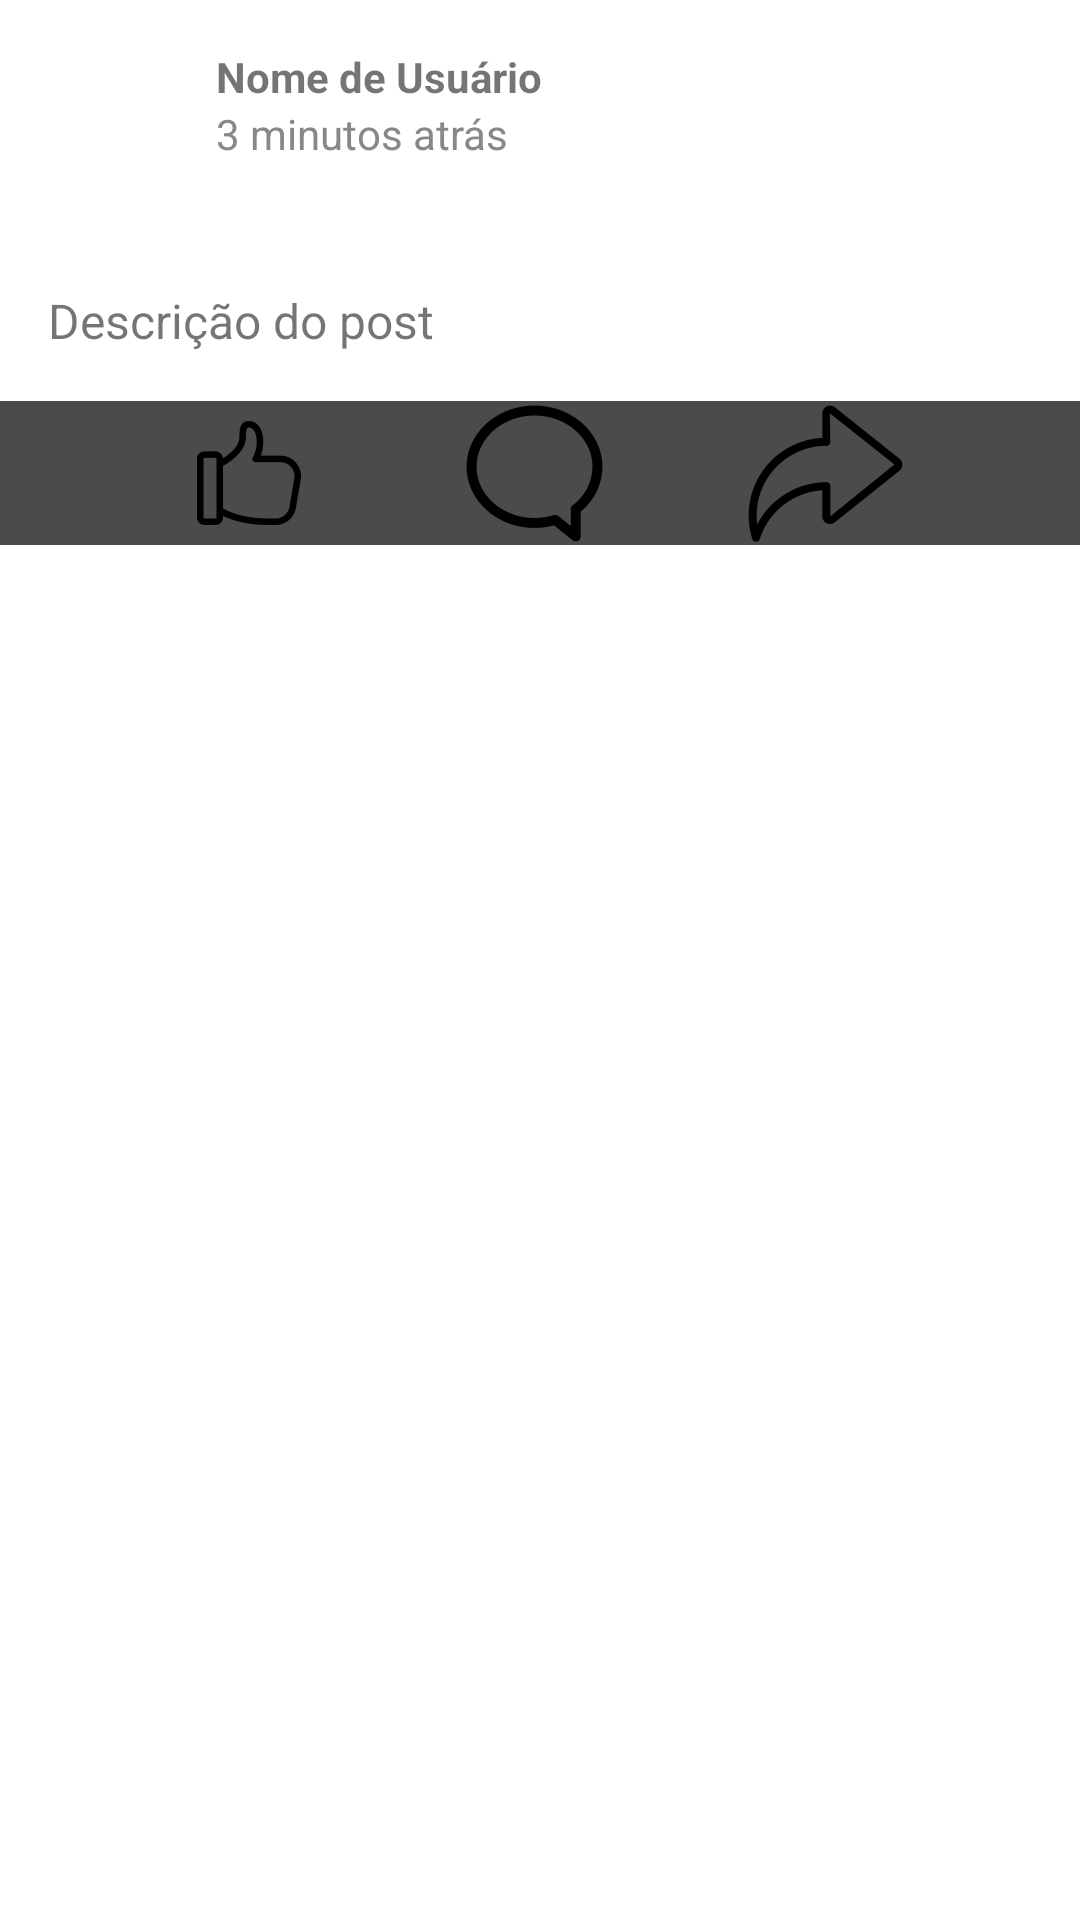

Icon bounding boxes for this 1080*1920 phone screenshot, format (x1, y1, x2, y2):
comment: (466, 405, 603, 542)
like: (197, 421, 301, 525)
share: (748, 405, 902, 542)
